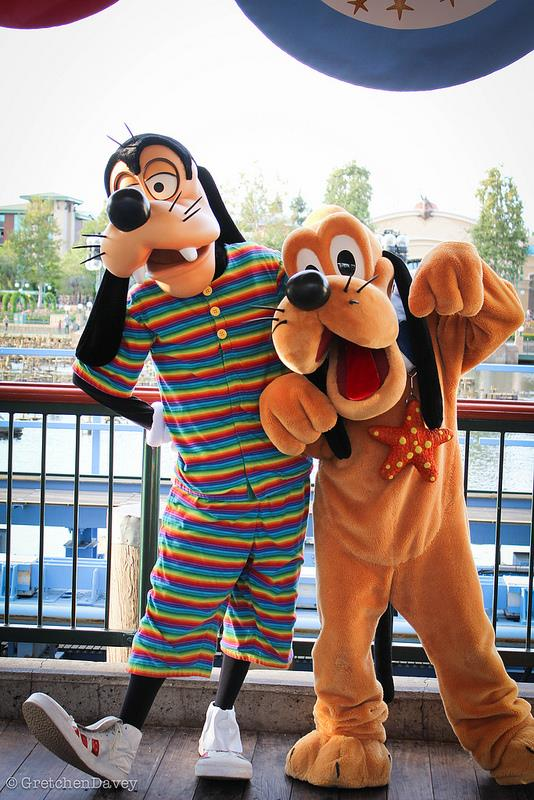Goofy: (103, 129, 235, 297)
